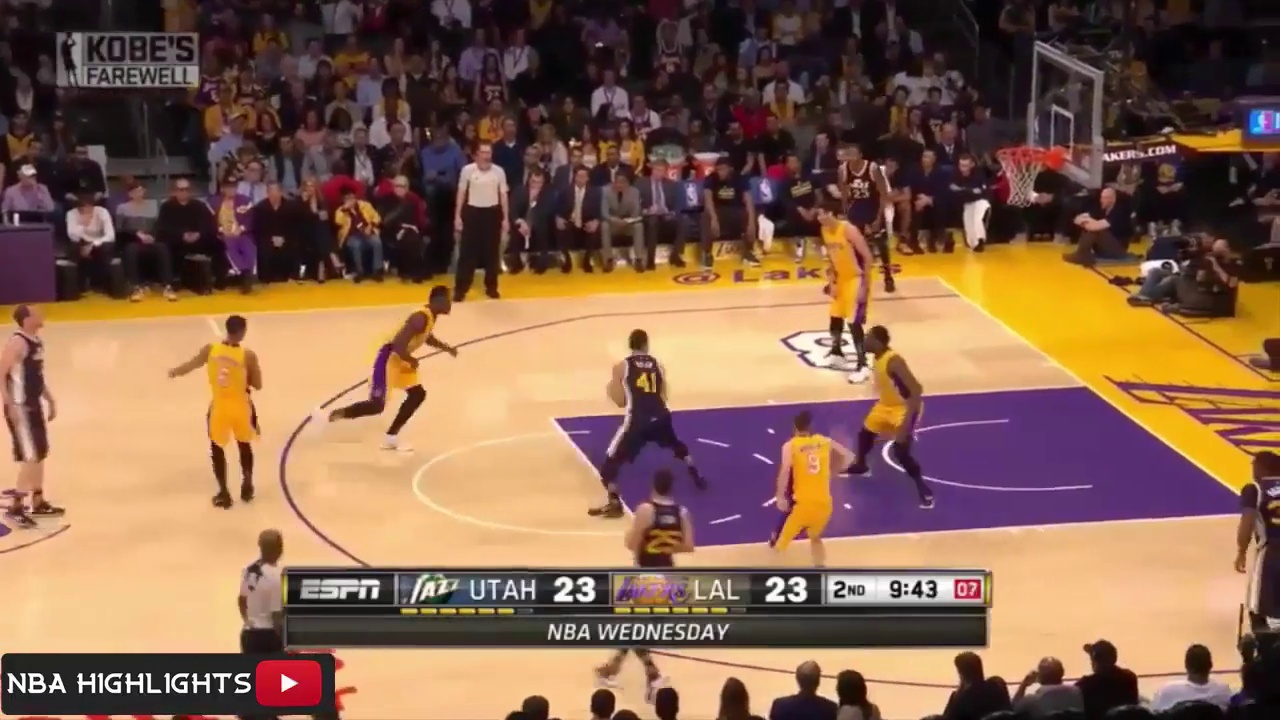jazz: (590, 313, 700, 508), (1, 291, 69, 537), (1219, 436, 1280, 650), (619, 470, 702, 569), (843, 149, 900, 284)
lakers: (324, 284, 478, 444), (157, 304, 275, 504), (848, 321, 943, 513), (767, 412, 842, 572), (808, 204, 871, 377)
